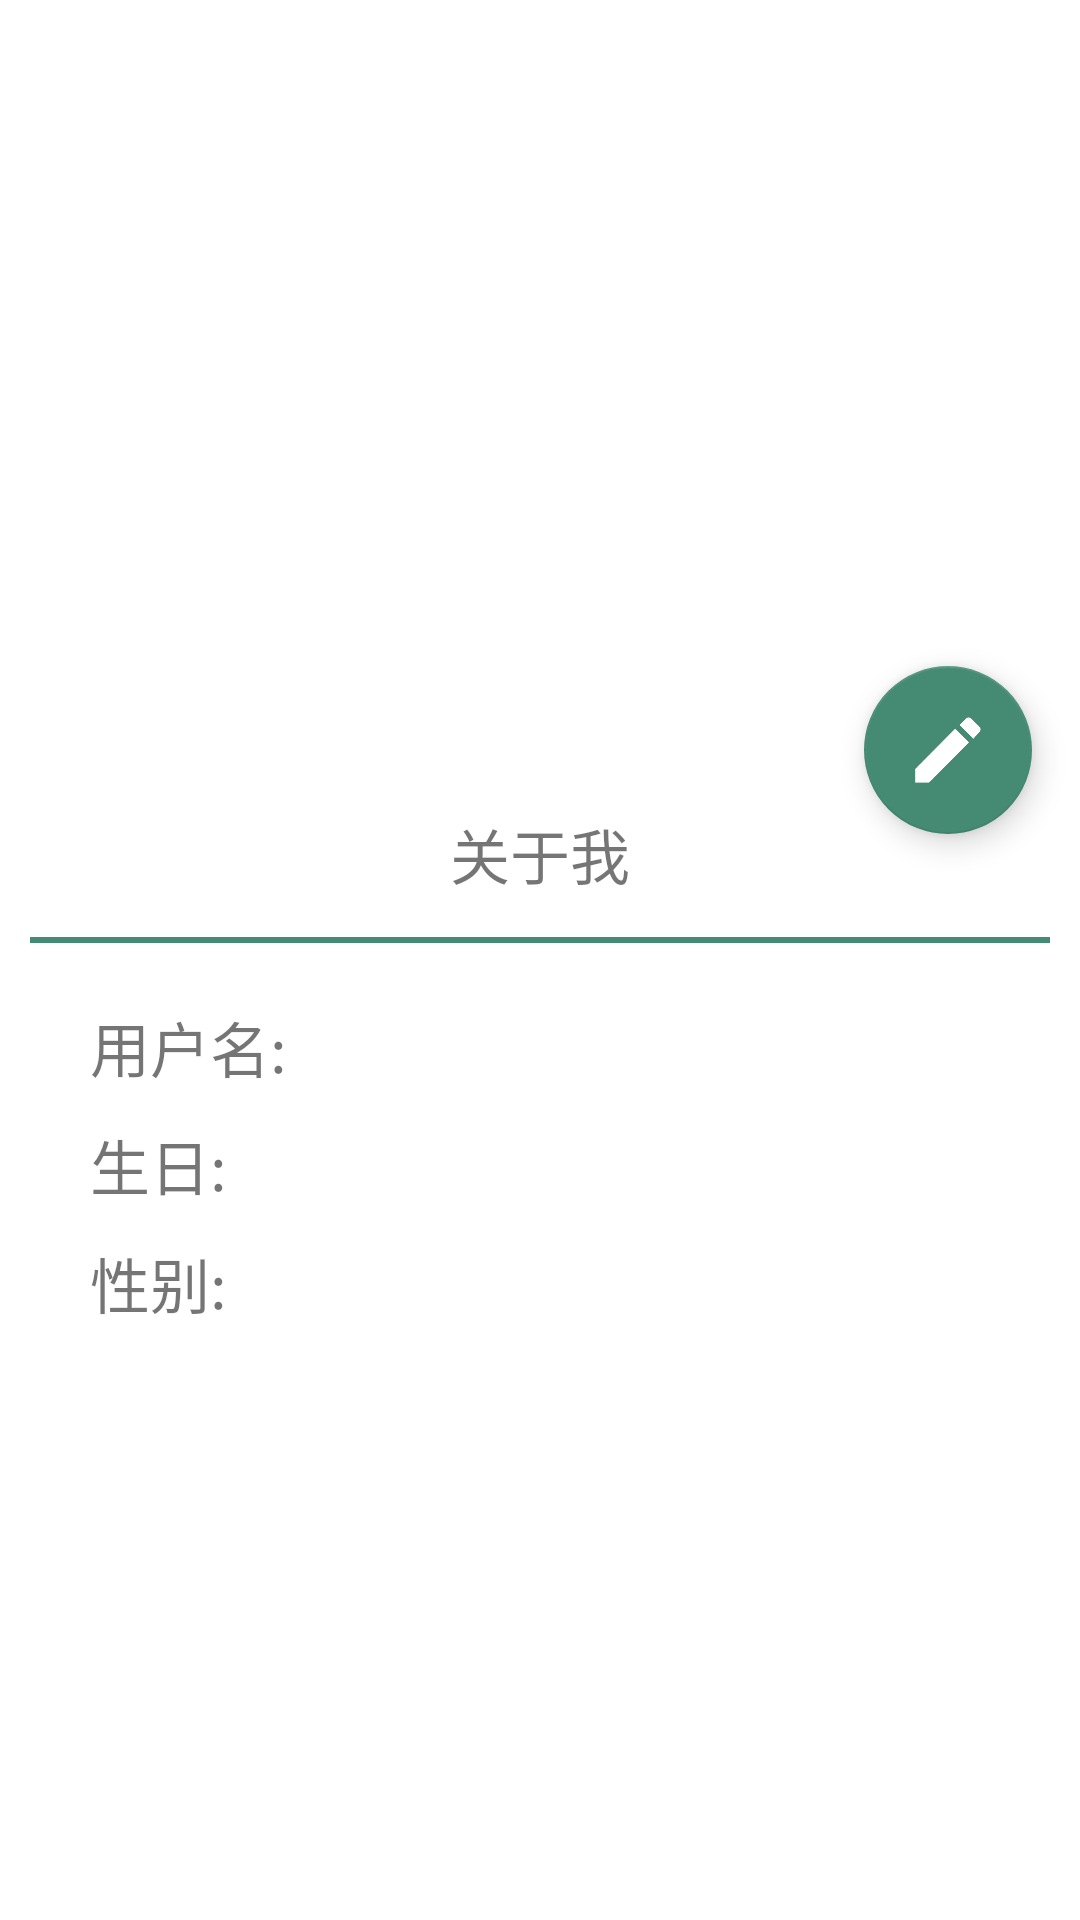

Where to tap for icons on this 1080*1920 app screen, as point (x, y):
edit: point (948, 750)
